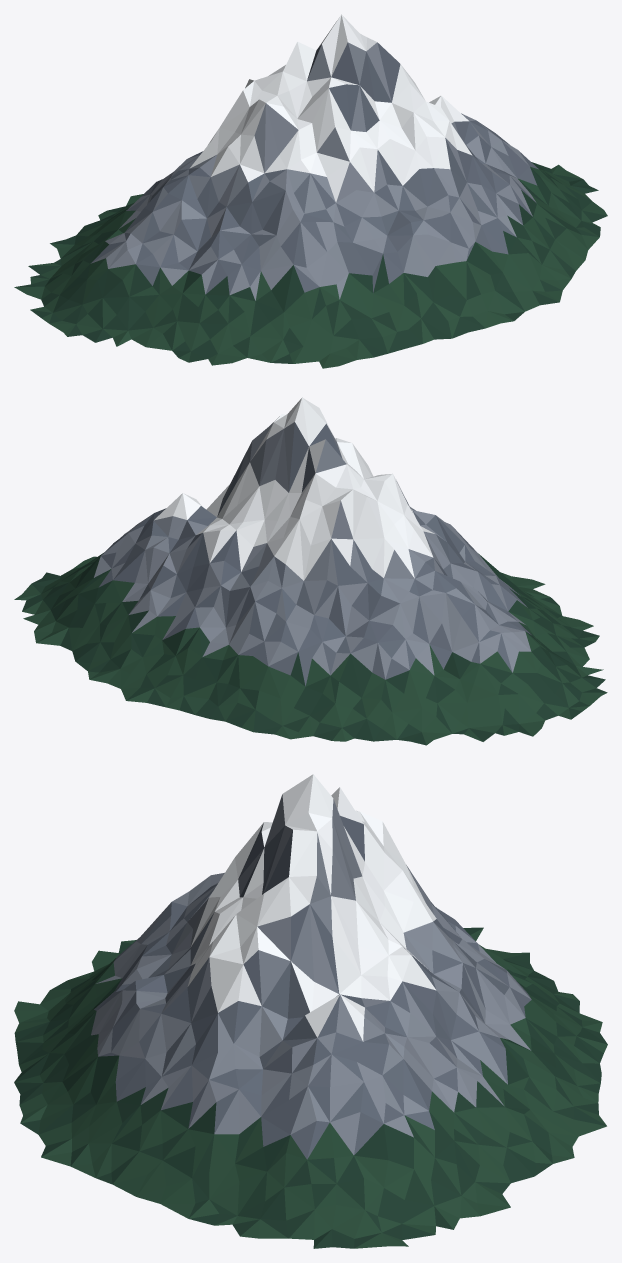
Rendered from mountain_a.glb.
The picture shows the model from 3 angles, top to bottom: view 1: azimuth 30°, elevation 25°; view 2: azimuth 150°, elevation 25°; view 3: azimuth 270°, elevation 25°; orthographic projection. The views are drawn at different scales.
Visible parts, largest first — view 1: mountain_mesh; view 2: mountain_mesh; view 3: mountain_mesh.
Part boxes in pixels (bbox=[...]): mountain_mesh: bbox=[14, 14, 607, 368]; mountain_mesh: bbox=[14, 397, 607, 745]; mountain_mesh: bbox=[14, 774, 607, 1248].
Bounding box in the file's own units: 2.6 × 1.08 × 1.87.
